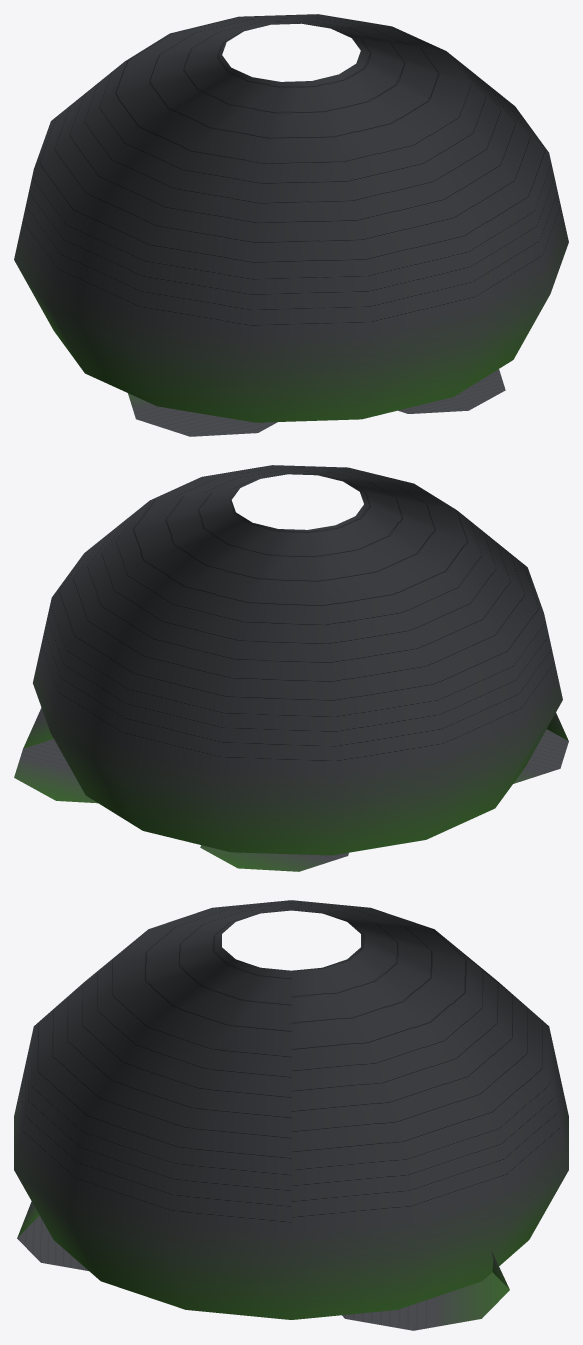
File: basalt_boulder.glb
3 views of the same model, one above another, from view 1: azimuth 30°, elevation 25°; view 2: azimuth 150°, elevation 25°; view 3: azimuth 270°, elevation 25° (orthographic). The views are drawn at different scales.
Parts seen in each view (by area): view 1: Node_BasaltBoulder; view 2: Node_BasaltBoulder; view 3: Node_BasaltBoulder.
Boxes of the visible parts, x1,y1,x2,y2 form: Node_BasaltBoulder: (14, 14, 568, 436); Node_BasaltBoulder: (14, 465, 568, 871); Node_BasaltBoulder: (14, 900, 568, 1330).
Bounding box in the file's own units: 5.6 × 3 × 5.46.
Materials: 1 (1 with a texture image).
